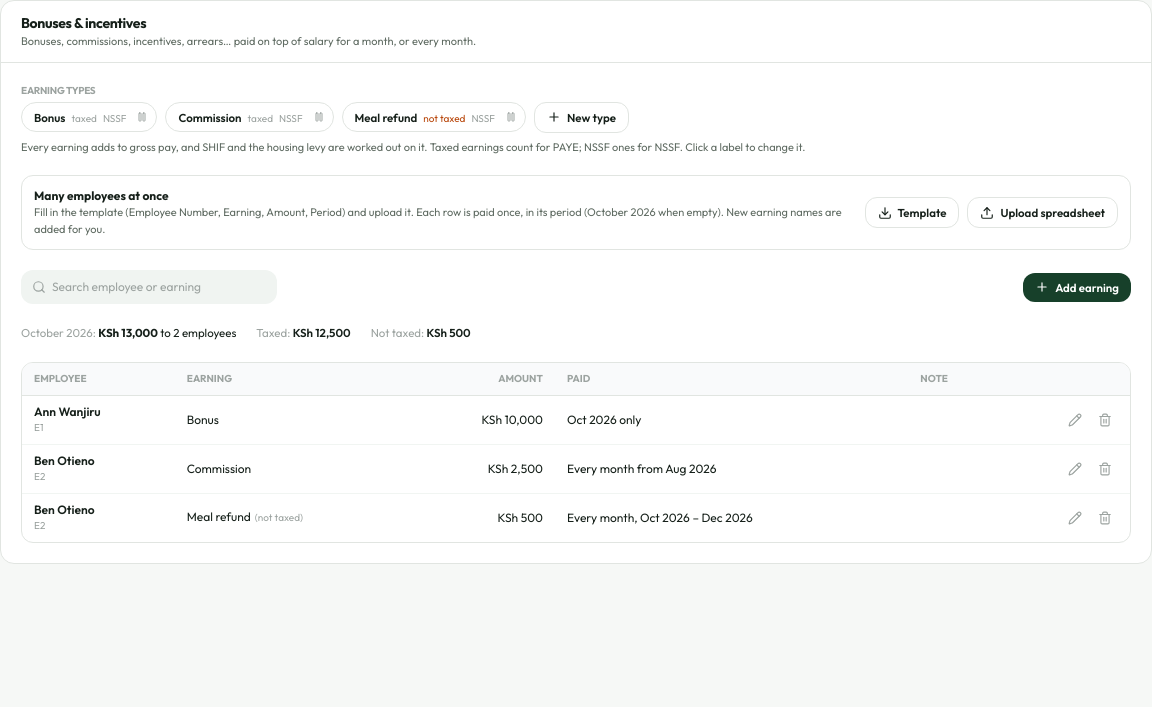
Test case: PayrollEarningsTab › says whether a new earning type is taxed in Kenya, and "Use this" sets Taxed
The image size is (1152, 707).
Check: the text "Ann Wanjiru" is shown, box [34,404,101,418]
Click the button "New type" at (582, 117), box [534,102,629,133]
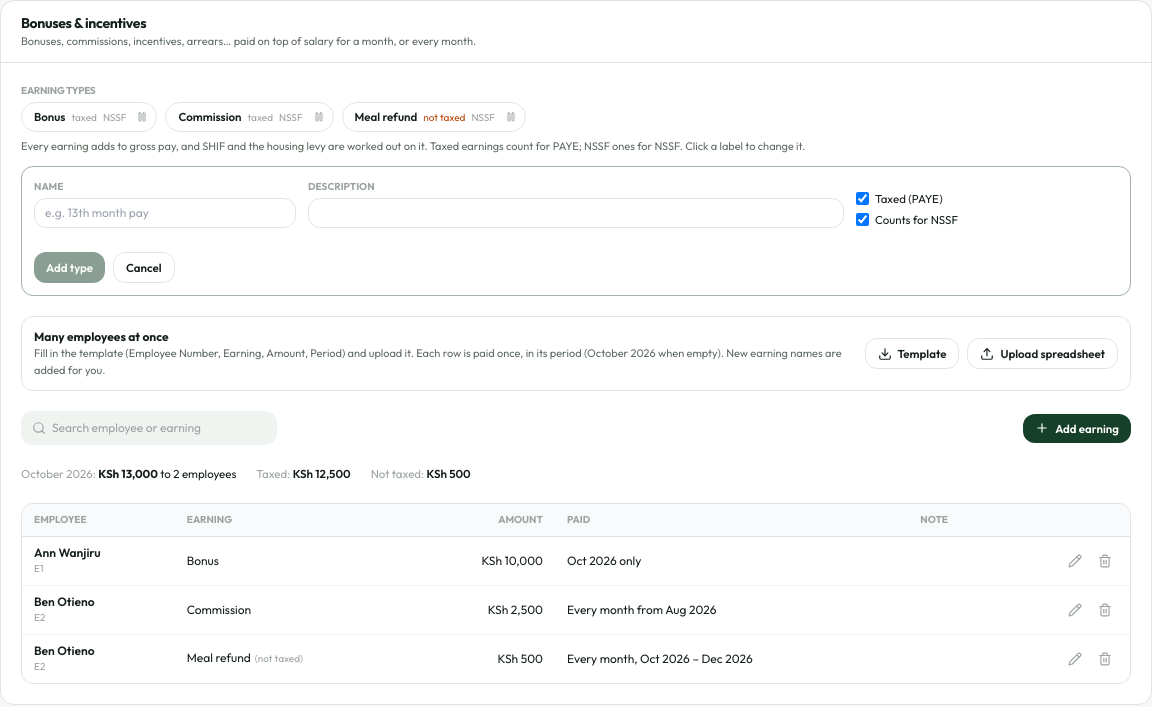
Type "Christmas bonus" into the field labelled "Name" at (165, 213), box [34,198,296,228]
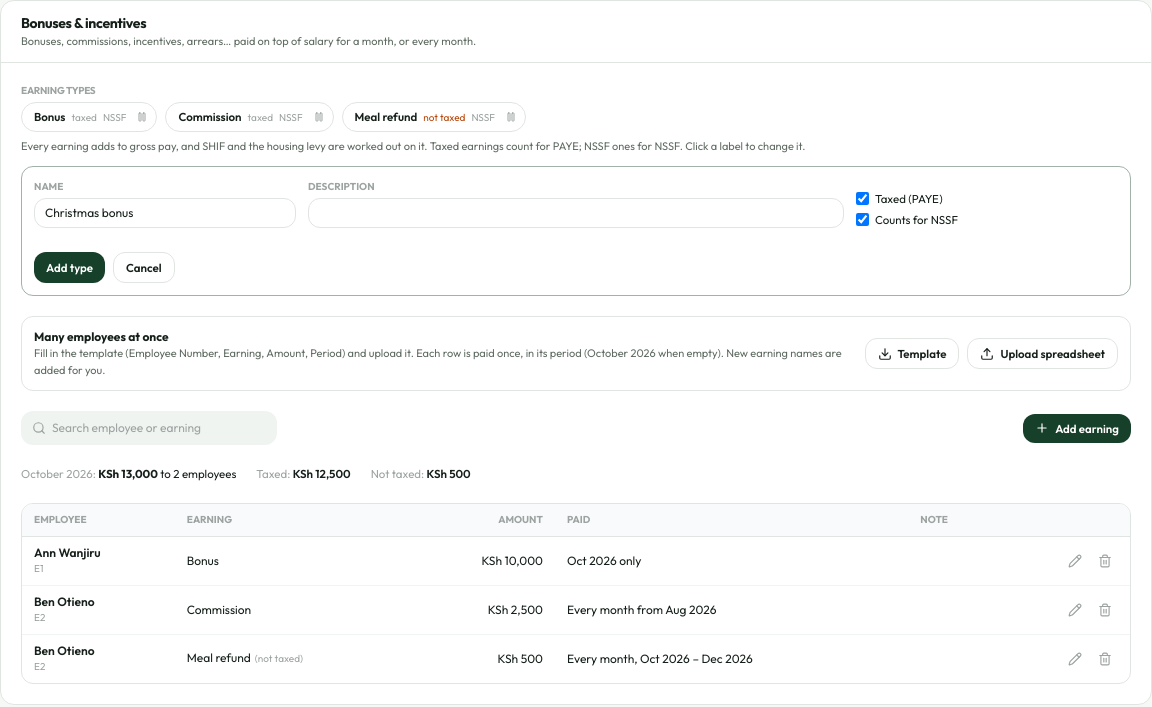
Click the checkbox labelled "Taxed (PAYE)" at (862, 198), box [856,192,869,205]
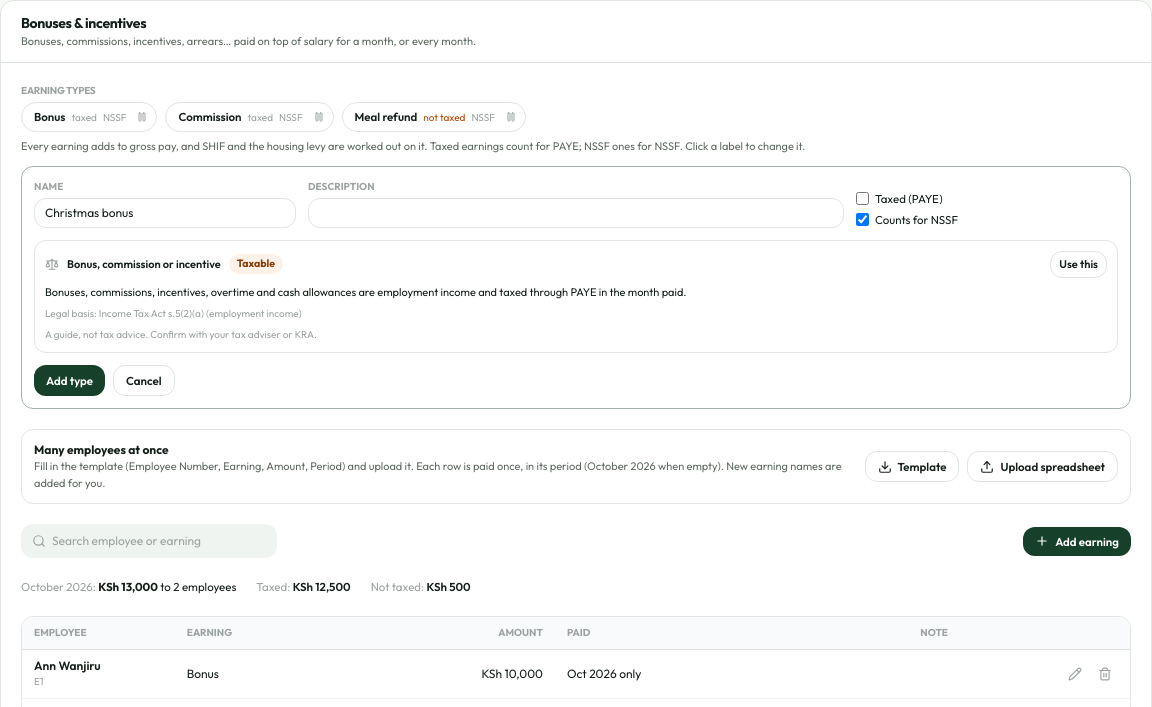
Check: the text "Taxable" is shown, box [229,254,283,274]
Click the button "Use this" at (1079, 264), box [1050,251,1107,278]
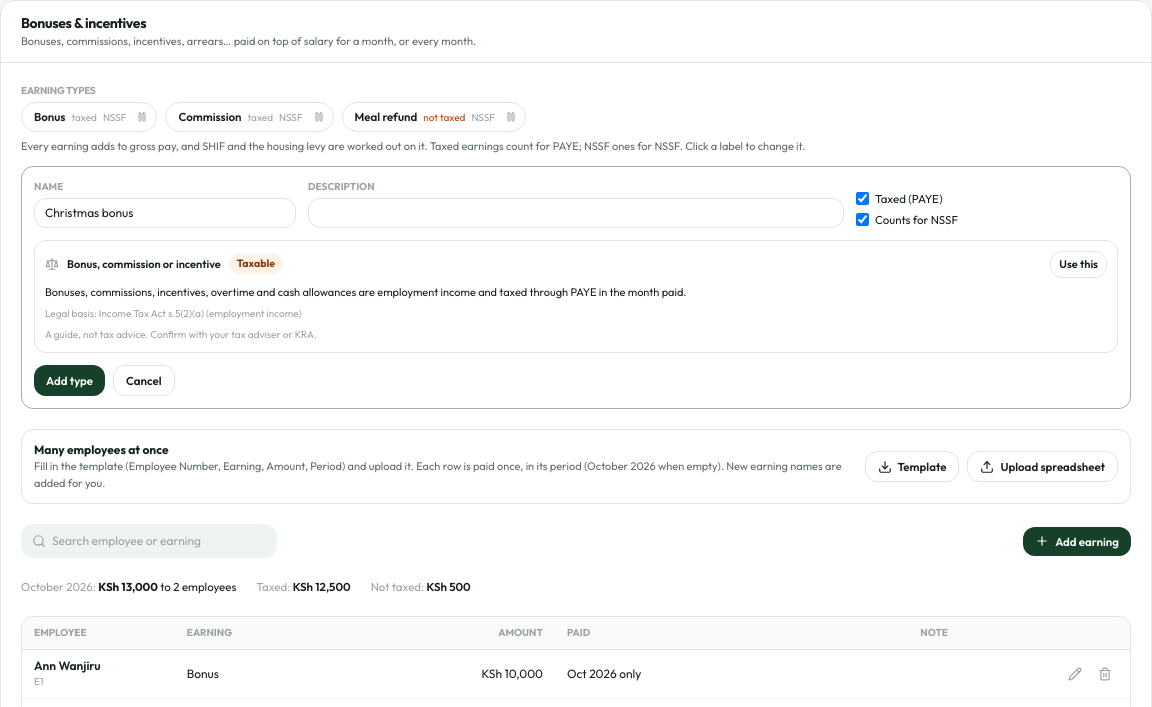
Check: the checkbox labelled "Taxed (PAYE)" is checked, box [856,192,869,205]
